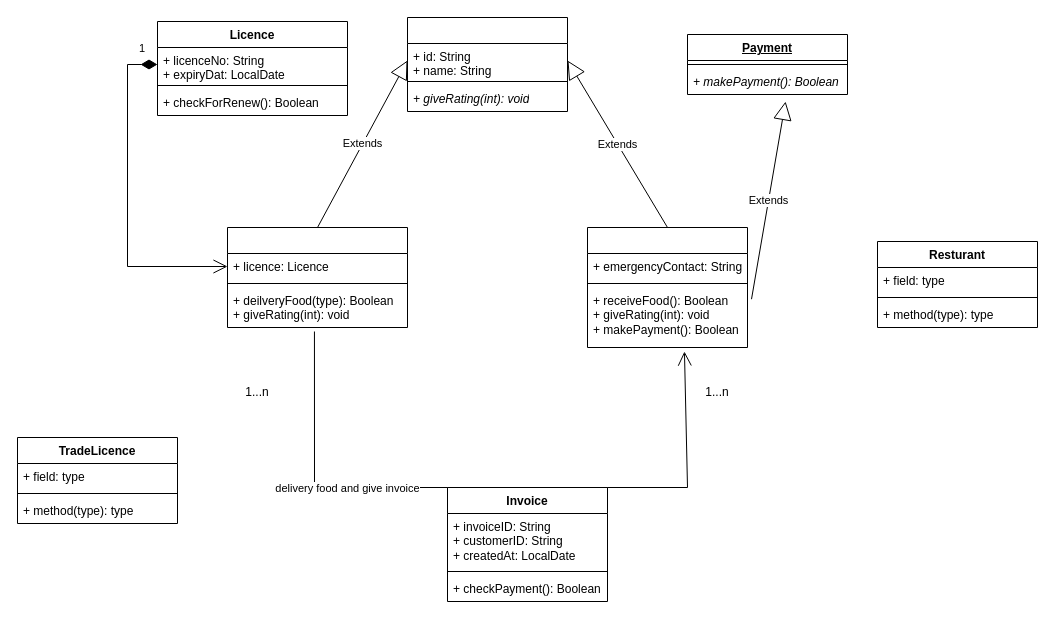
This 1055x622 diagram has some shape labels left out. Here are the shapes that lost their labels. From the top down, the box of each, then its label:
(406, 16, 568, 112): User
(226, 226, 408, 328): DeliveryMan
(586, 226, 748, 348): Customer
